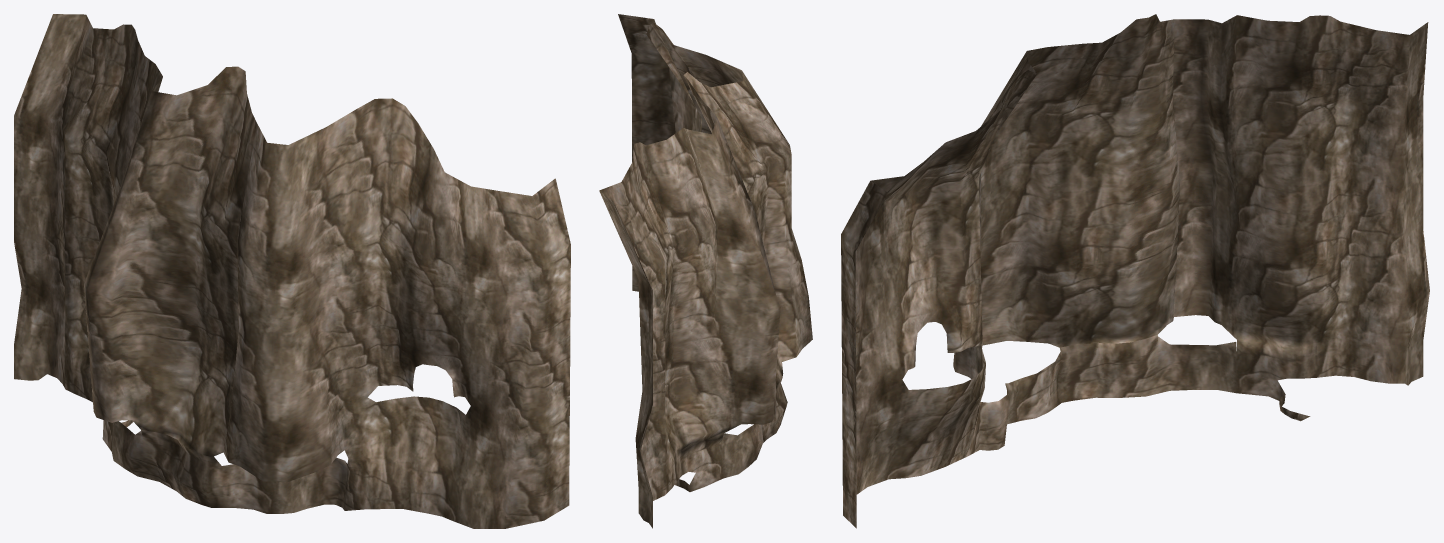
The model's file is EKH_ENTRANCE_PS_EN_WALL_006.fbx.
3 views of the same model, side by side, from view 1: azimuth 30°, elevation 25°; view 2: azimuth 150°, elevation 25°; view 3: azimuth 270°, elevation 25° (orthographic). The views are drawn at different scales.
Visible parts, largest first — view 1: EKH_ENTRANCE_PS_EN_WALL_006; view 2: EKH_ENTRANCE_PS_EN_WALL_006; view 3: EKH_ENTRANCE_PS_EN_WALL_006.
Part boxes in pixels (x1,y1,x2,y2): EKH_ENTRANCE_PS_EN_WALL_006: [14, 14, 570, 528]; EKH_ENTRANCE_PS_EN_WALL_006: [599, 14, 812, 528]; EKH_ENTRANCE_PS_EN_WALL_006: [841, 14, 1429, 528].
Bounding box in the file's own units: 168703 × 197457 × 249473.
Materials: 1 (1 with a texture image).
